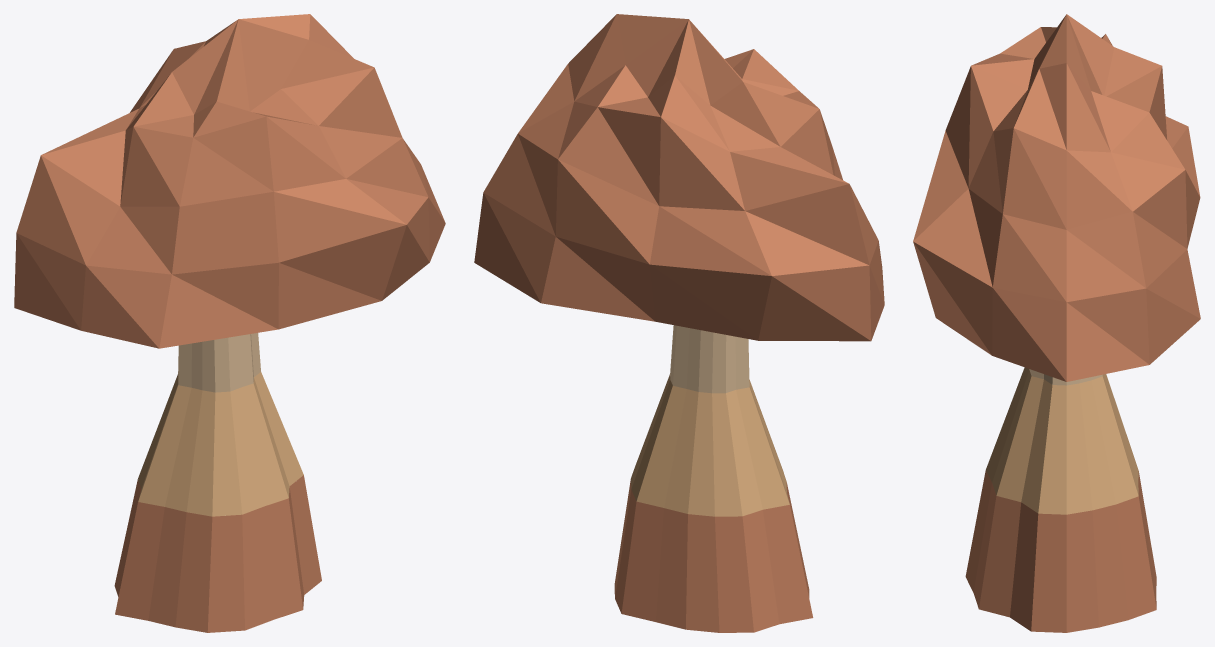
File: balanced-rock.glb
3 renders of one model, left to right at view 1: azimuth 30°, elevation 25°; view 2: azimuth 150°, elevation 25°; view 3: azimuth 270°, elevation 25°, orthographic. The views are drawn at different scales.
Visible parts, largest first — view 1: balanced-rock; view 2: balanced-rock; view 3: balanced-rock.
Boxes of the visible parts, x1,y1,x2,y2 form: balanced-rock: [14, 14, 445, 632]; balanced-rock: [474, 14, 884, 632]; balanced-rock: [913, 14, 1200, 632].
Size of the model in its own units: 4.01 by 5.28 by 2.36.
